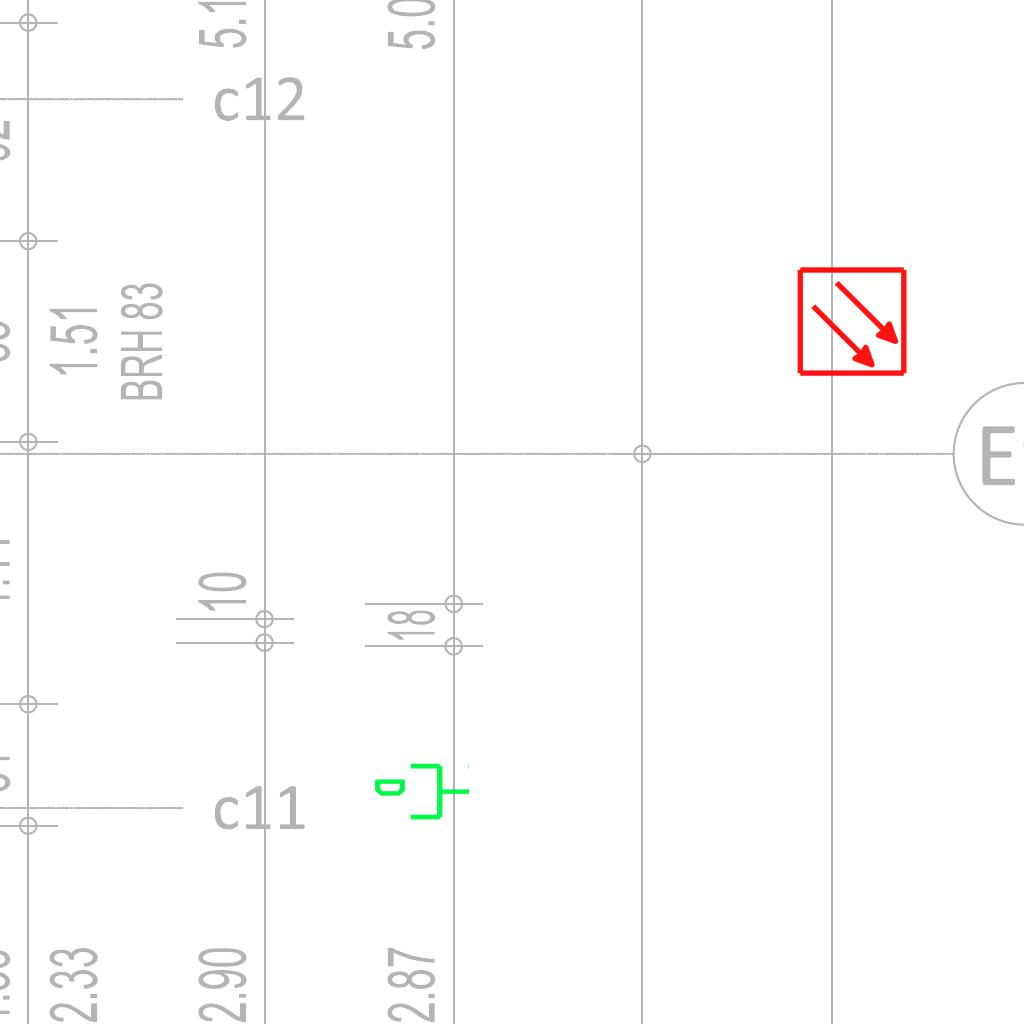Datenanschluss_einfach: (372, 759, 472, 828)
RMO_Rauchmelder_optischer: (796, 265, 909, 378)
